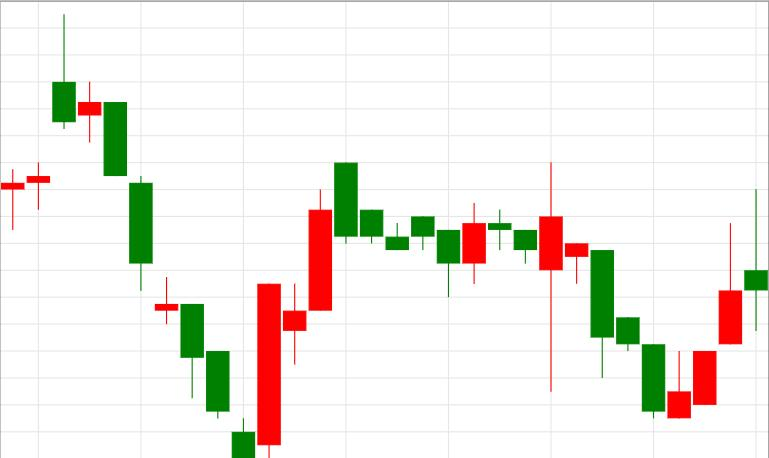bullish_engulfing_rise: (104, 102, 281, 458)
inverse_hammer_rise: (565, 243, 691, 419)
